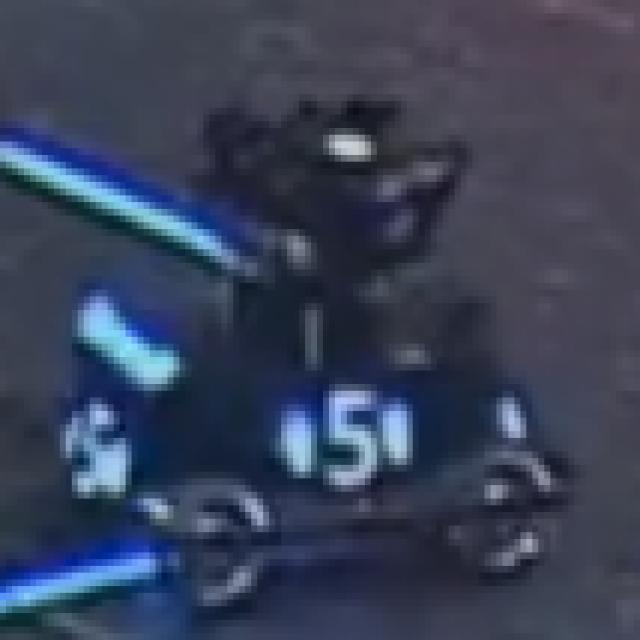B5: (281, 384, 413, 472), (54, 398, 125, 506)
